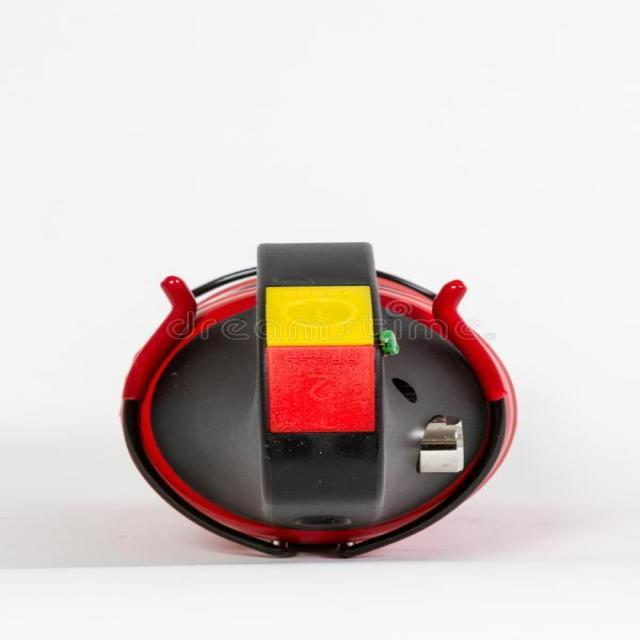FireExtinguisher: (114, 233, 526, 562)
